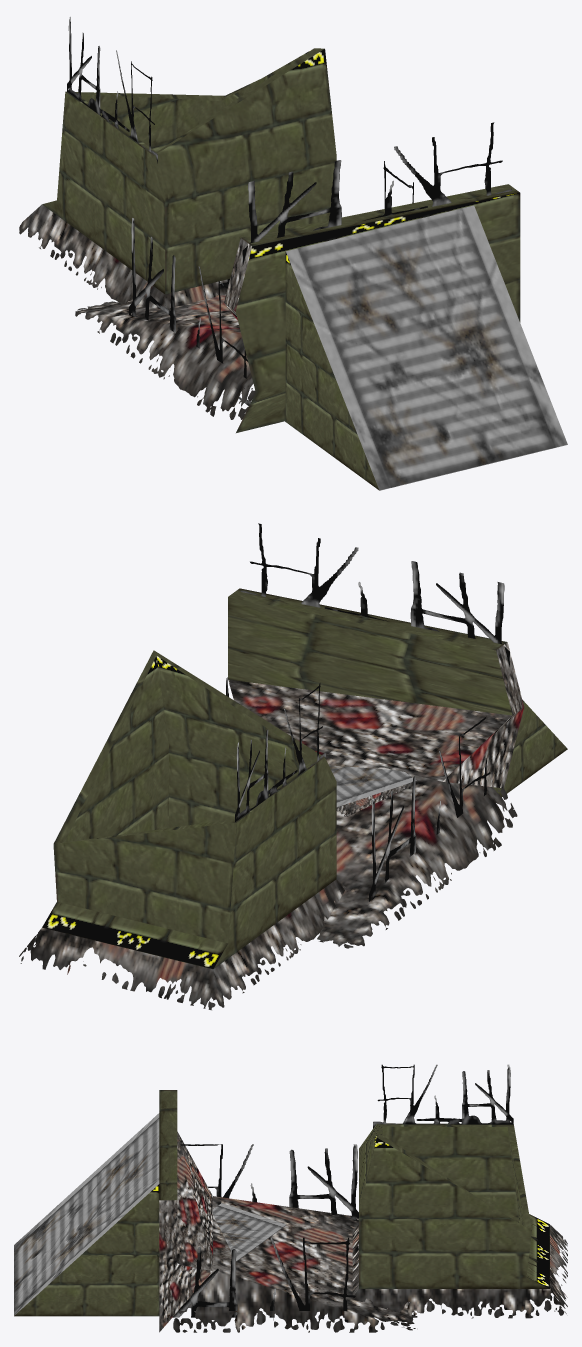
The model's file is l_palacecore_dam.glb.
The picture shows the model from 3 angles, top to bottom: view 1: azimuth 30°, elevation 25°; view 2: azimuth 150°, elevation 25°; view 3: azimuth 270°, elevation 25°; orthographic projection. The views are drawn at different scales.
Parts seen in each view (by area): view 1: palace_coreDAM; view 2: palace_coreDAM; view 3: palace_coreDAM.
Boxes of the visible parts, <box> form: palace_coreDAM: <box>19,16,567,490</box>; palace_coreDAM: <box>19,523,567,1010</box>; palace_coreDAM: <box>14,1064,567,1332</box>.
Bounding box in the file's own units: 20.63 × 16.99 × 44.93.
4 materials, 4 textured.
